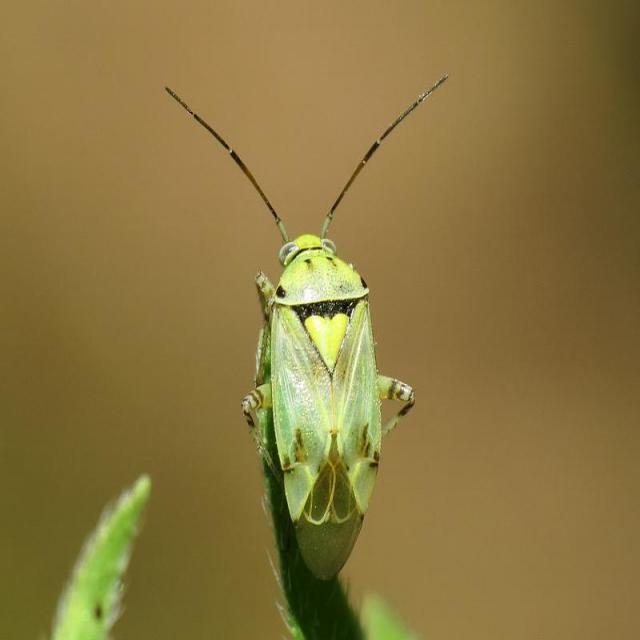Miridae-Adult-: (160, 56, 455, 585)
